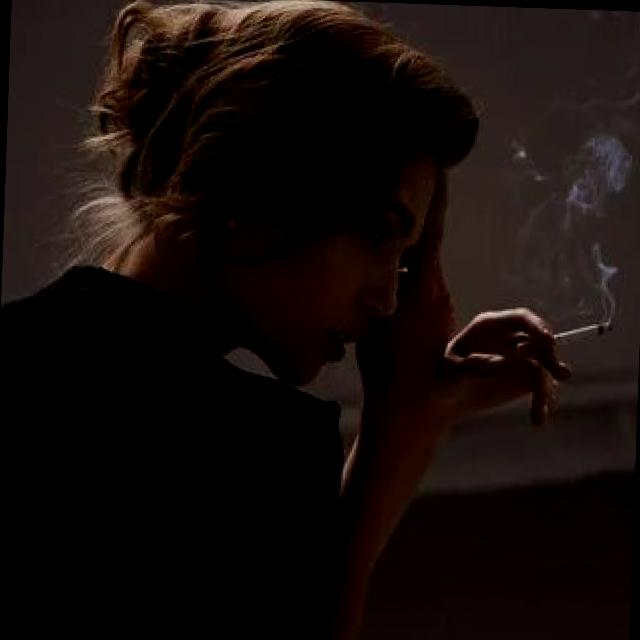smoke: (509, 312, 618, 360)
